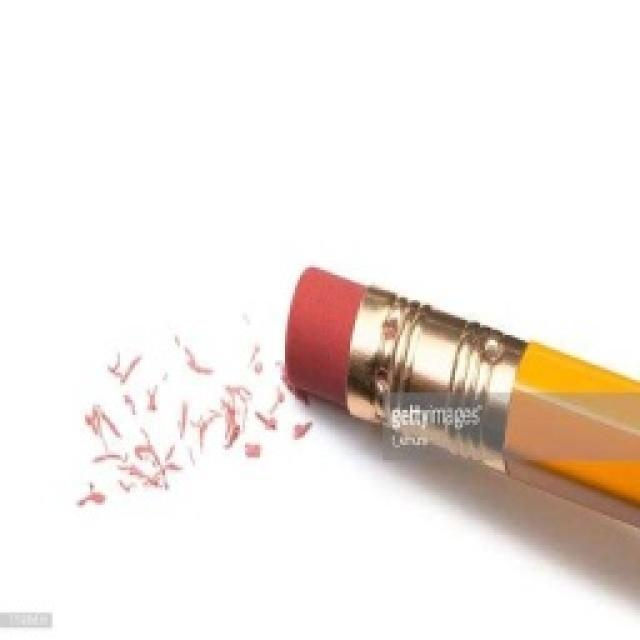pencil: (278, 260, 638, 625)
